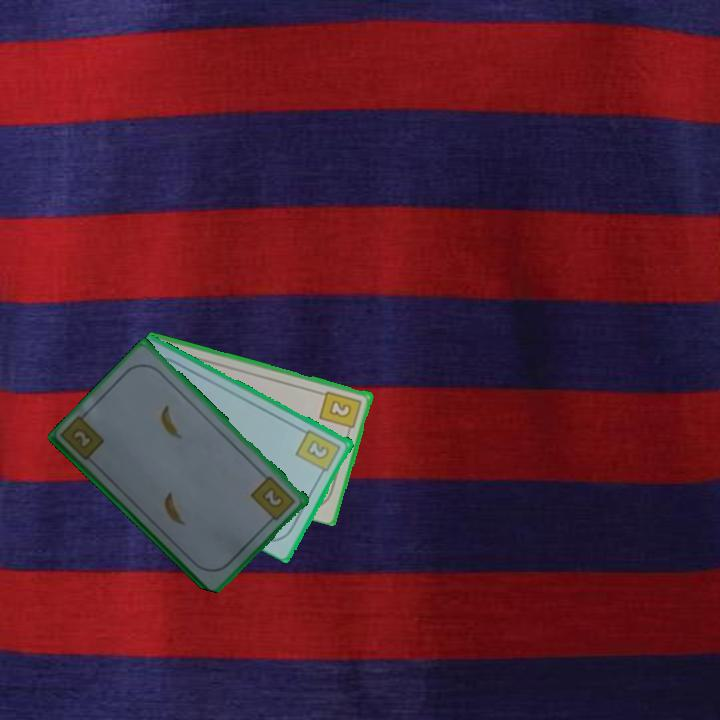2b: (247, 472, 299, 526), (293, 426, 344, 479), (317, 387, 365, 436), (70, 427, 96, 452)
